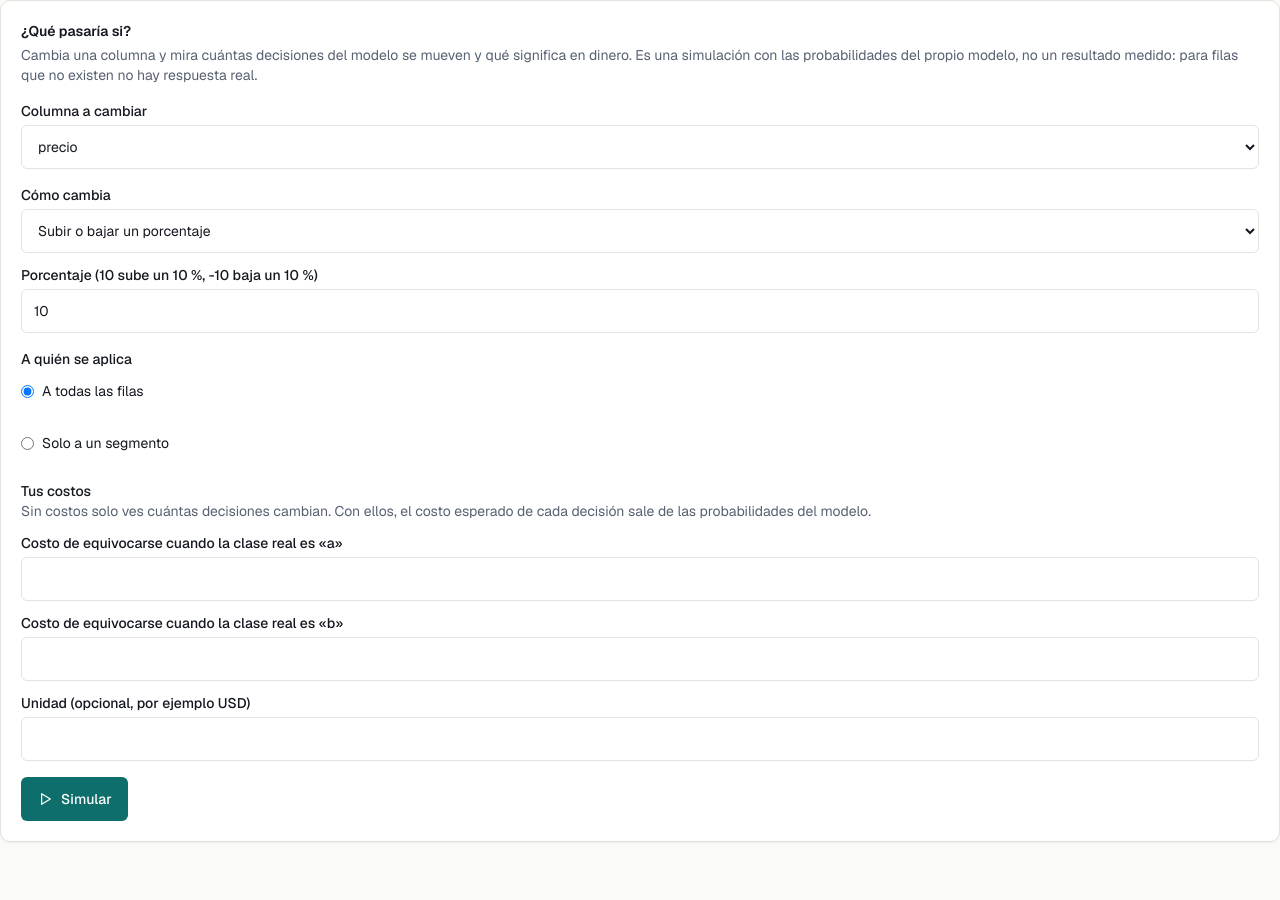
Test case: el panel «¿Qué pasaría si?» › varias clases con costos por clase y la tabla de filas por opción
Step 1. Type "10" into the field labelled "Costo de equivocarse cuando la clase real es «a»" → (640,579), box top-left (21, 557), bottom-right (1259, 601)
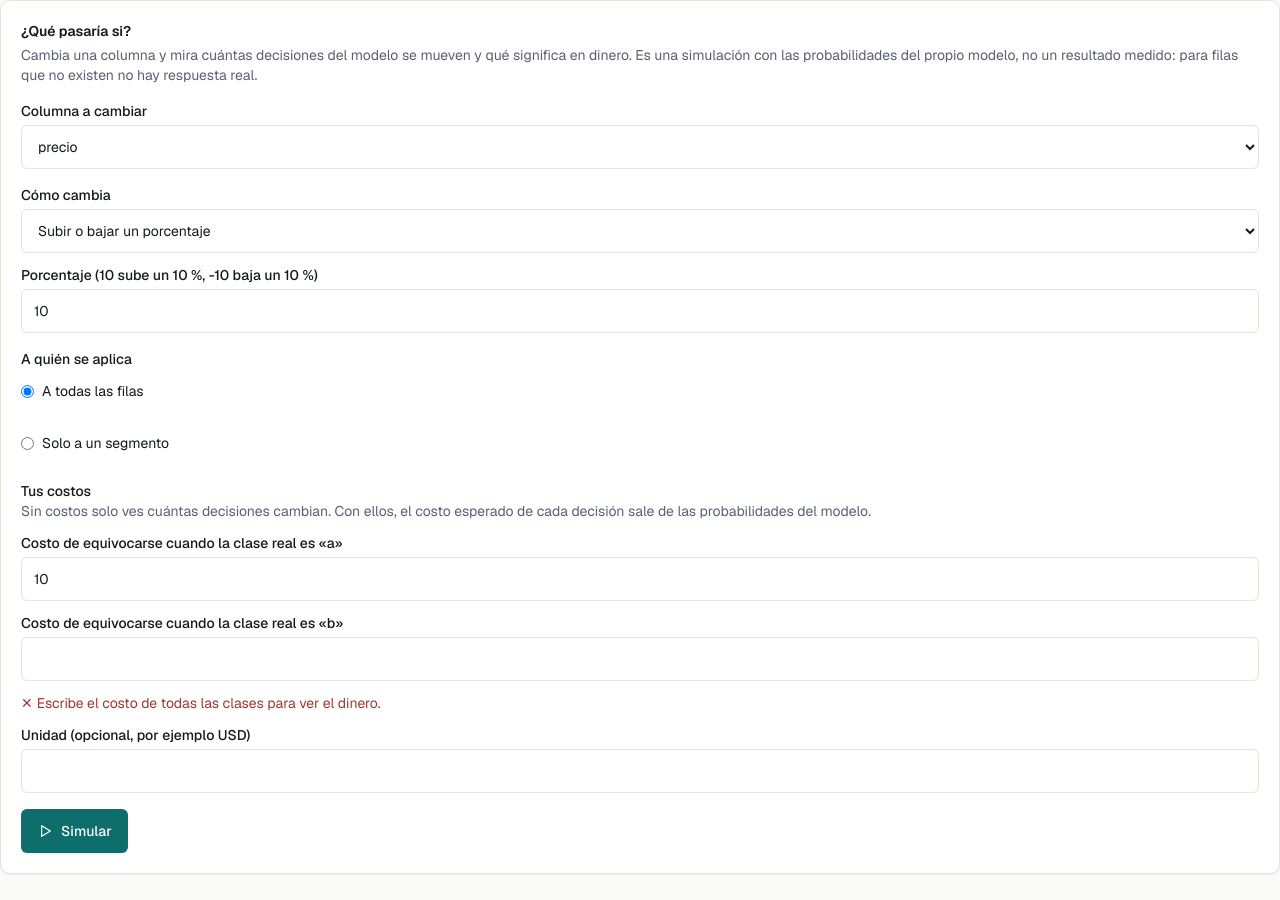
Step 2. Type "40" into the field labelled "Costo de equivocarse cuando la clase real es «b»" → (640,659), box top-left (21, 637), bottom-right (1259, 681)
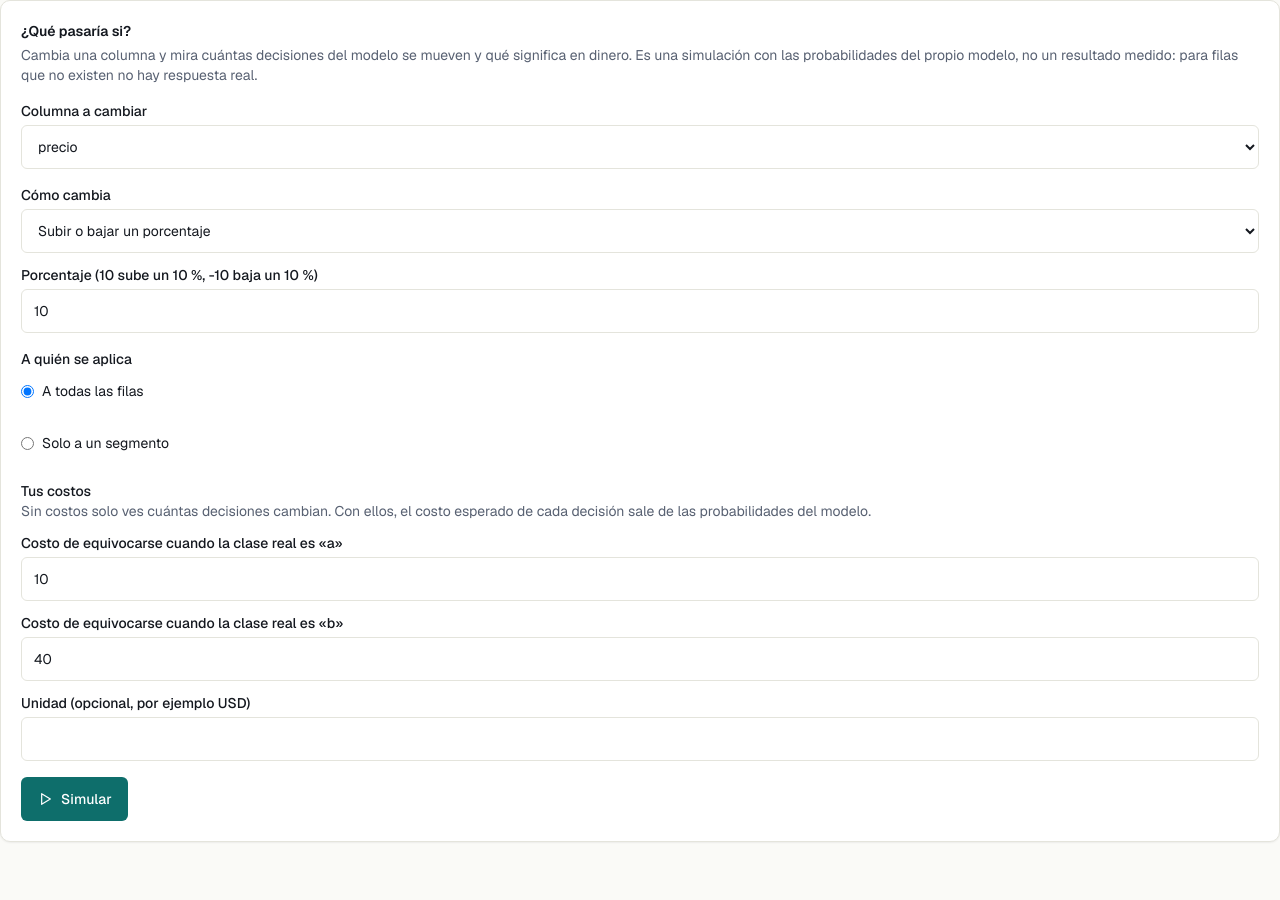
Step 3. Click the button "Simular" → (74,799), box top-left (21, 777), bottom-right (128, 821)
(page scrolled)
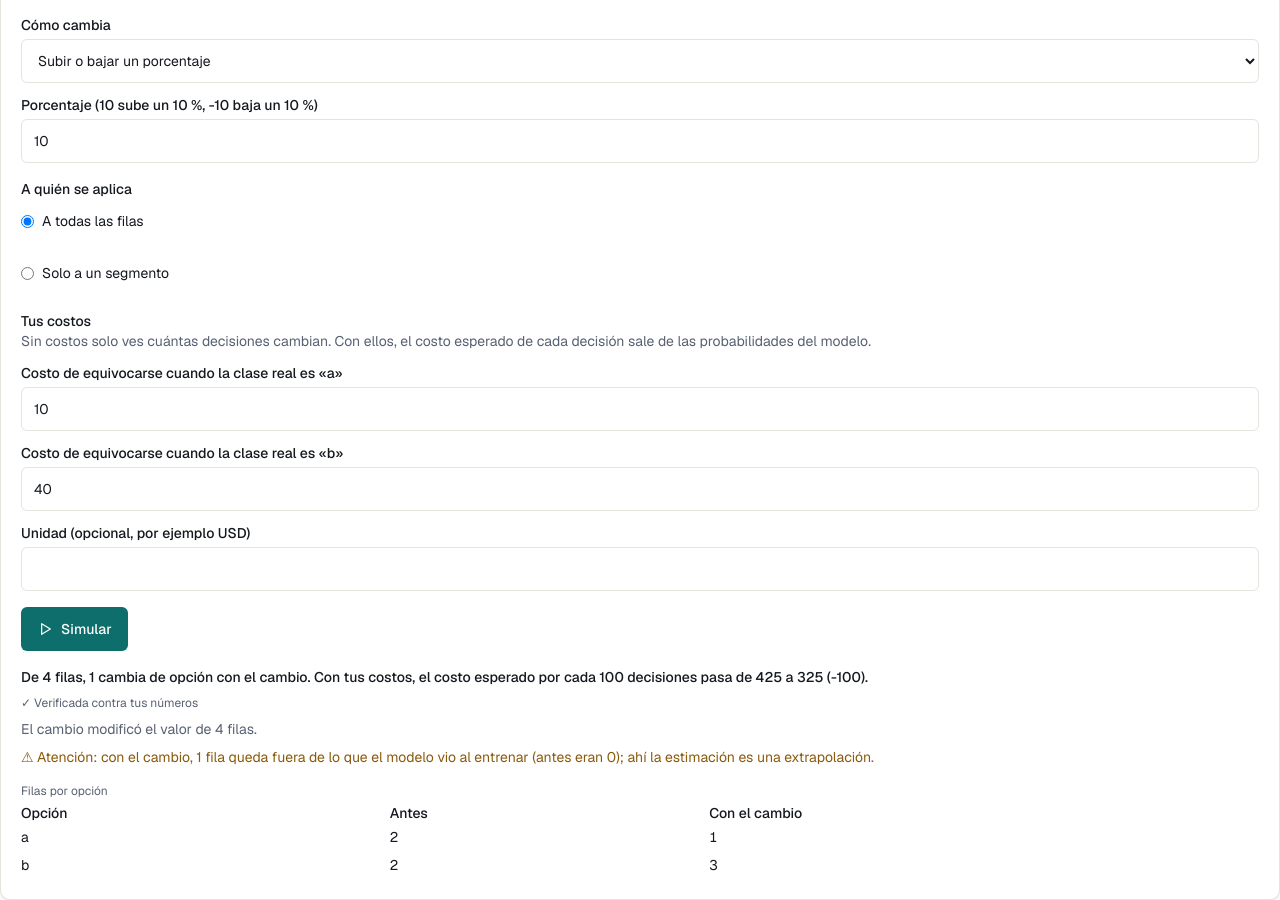
Check: the text with test id "simulador-resumen" shows "1 cambia de opción", box top-left (21, 668), bottom-right (868, 686)
Check: the text with test id "simulador-resumen" shows "de 425 a 325 (-100)", box top-left (21, 668), bottom-right (868, 686)
Check: the table shows "Filas por opción", box top-left (21, 783), bottom-right (108, 799)
